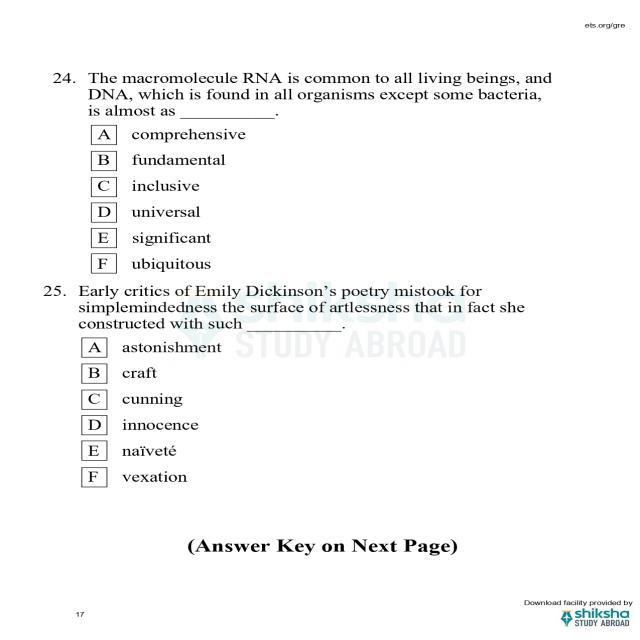Answer_Block: (37, 338, 568, 506), (37, 124, 568, 276)
Question_Answer_Block: (37, 283, 568, 507), (37, 62, 568, 276)
Question_Block: (37, 62, 568, 120), (37, 282, 568, 334)
Question_Paper_Area: (37, 62, 568, 506)
